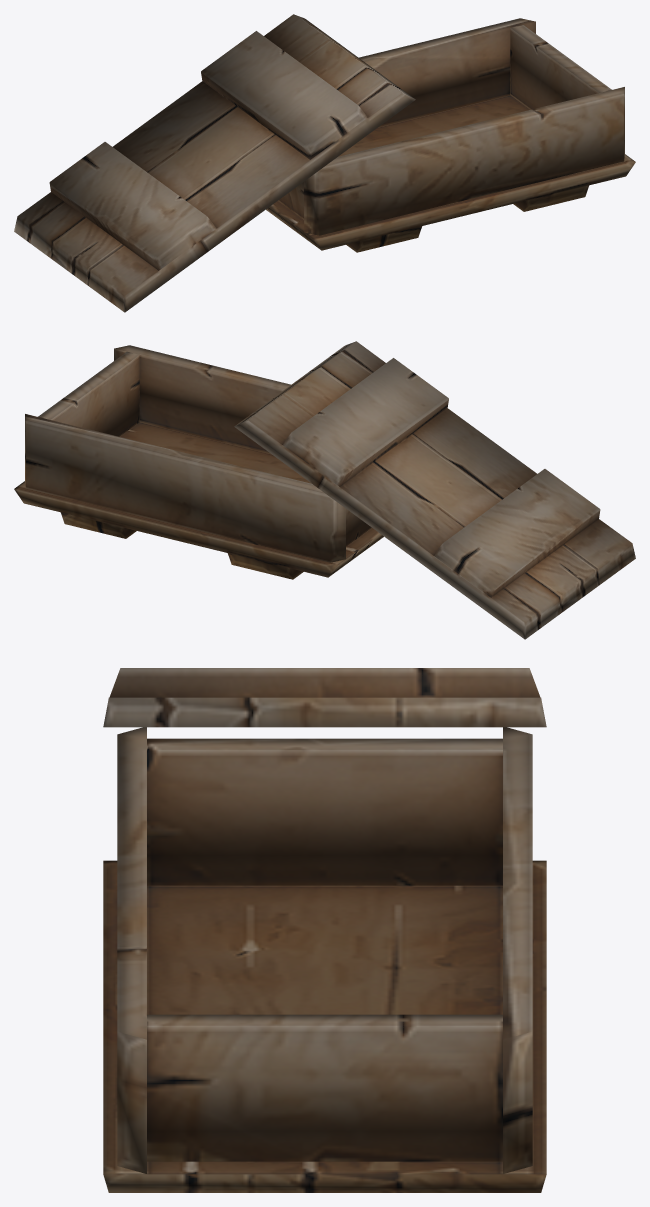
The model's file is Crate-04.fbx.
3 renders of one model, top to bottom at view 1: azimuth 30°, elevation 25°; view 2: azimuth 150°, elevation 25°; view 3: azimuth 270°, elevation 25°, orthographic. The views are drawn at different scales.
Parts seen in each view (by area): view 1: Crate-04; view 2: Crate-04; view 3: Crate-04.
Boxes of the visible parts, box(x1,y1,x2,y2) form: Crate-04: box(14, 14, 635, 312); Crate-04: box(14, 341, 635, 639); Crate-04: box(103, 668, 546, 1192).
Size of the model in its own units: 0.5968 by 0.1689 by 0.2243.
1 material, 1 textured.
